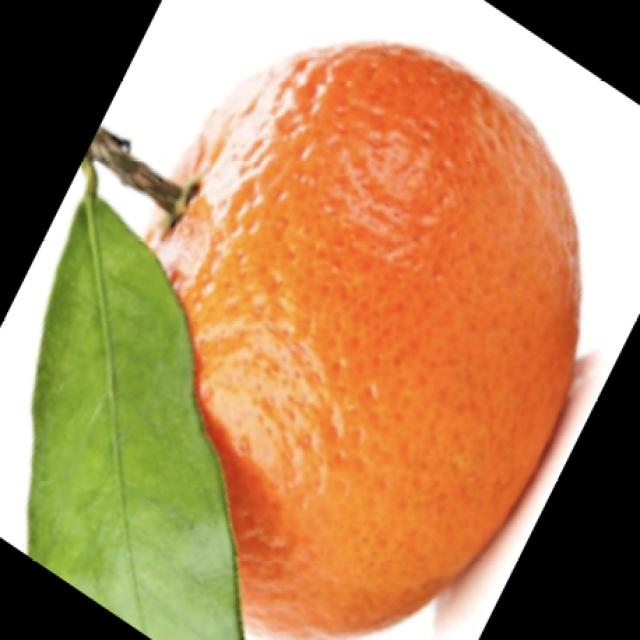matang: (151, 48, 572, 633)
